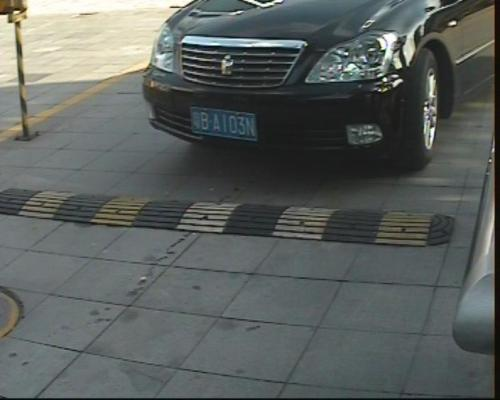Carplate: (181, 100, 264, 149)
